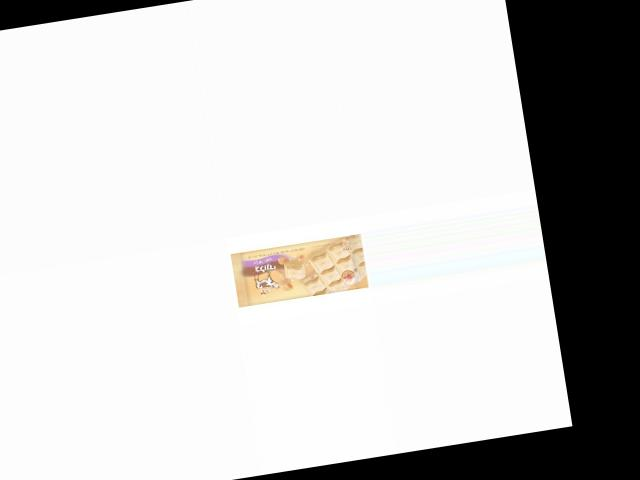chocolate: (225, 229, 369, 307)
